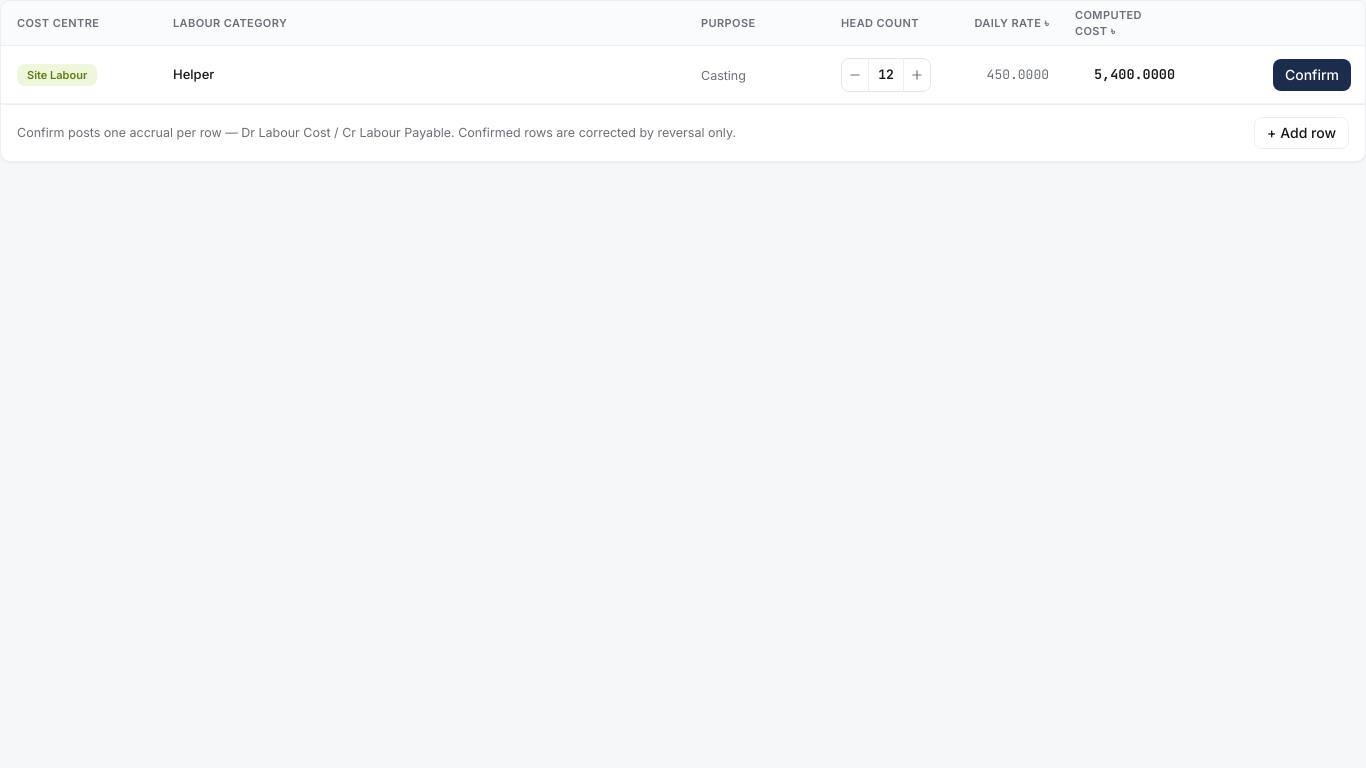
DailyLabourGrid — capture / confirm / reverse › surfaces ALREADY_CONFIRMED with the spec §8 copy on a second confirm
The image size is (1366, 768).
Expected: the element with test id "daily-labour-table" is shown, [1, 1, 1365, 104]
Click the button "Confirm": {"x": 1312, "y": 74} [1273, 58, 1351, 90]
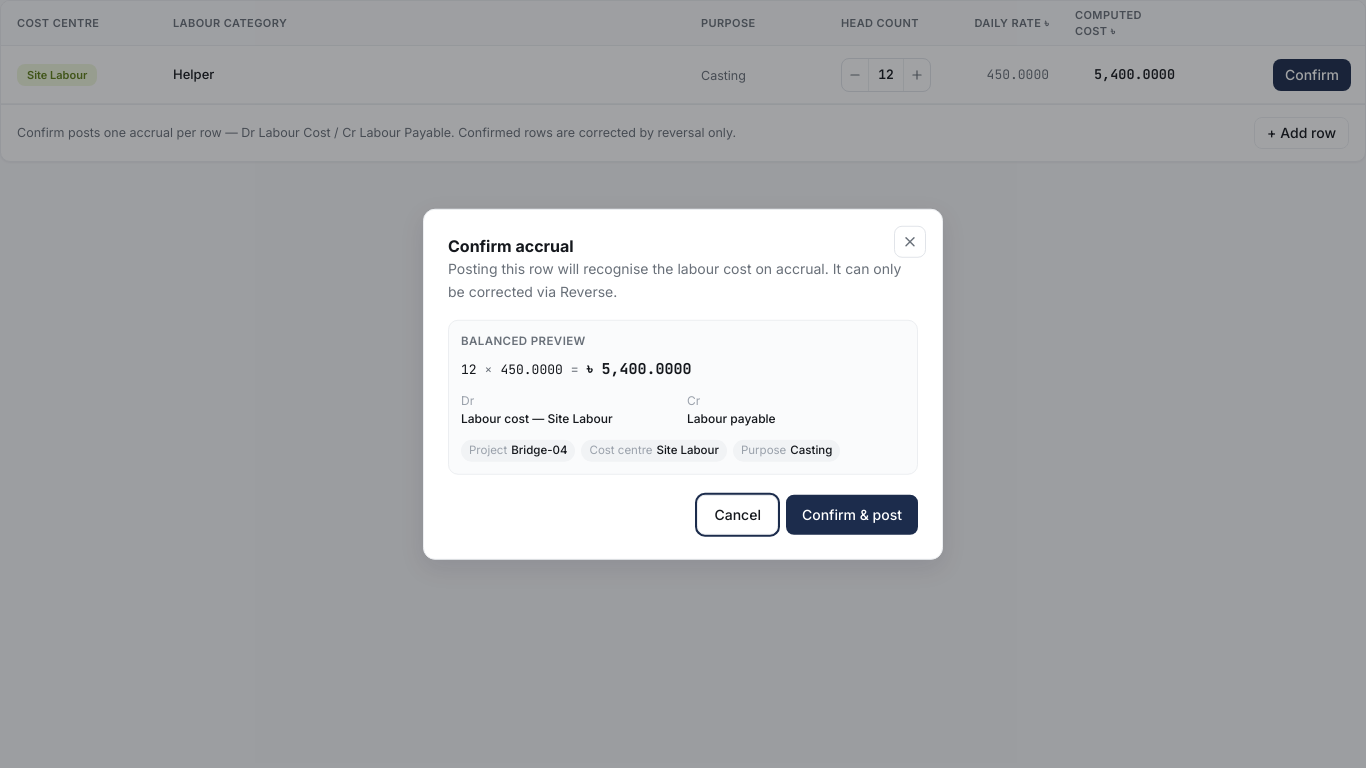
Click the button with test id "confirm-post": {"x": 852, "y": 514} [786, 494, 918, 534]
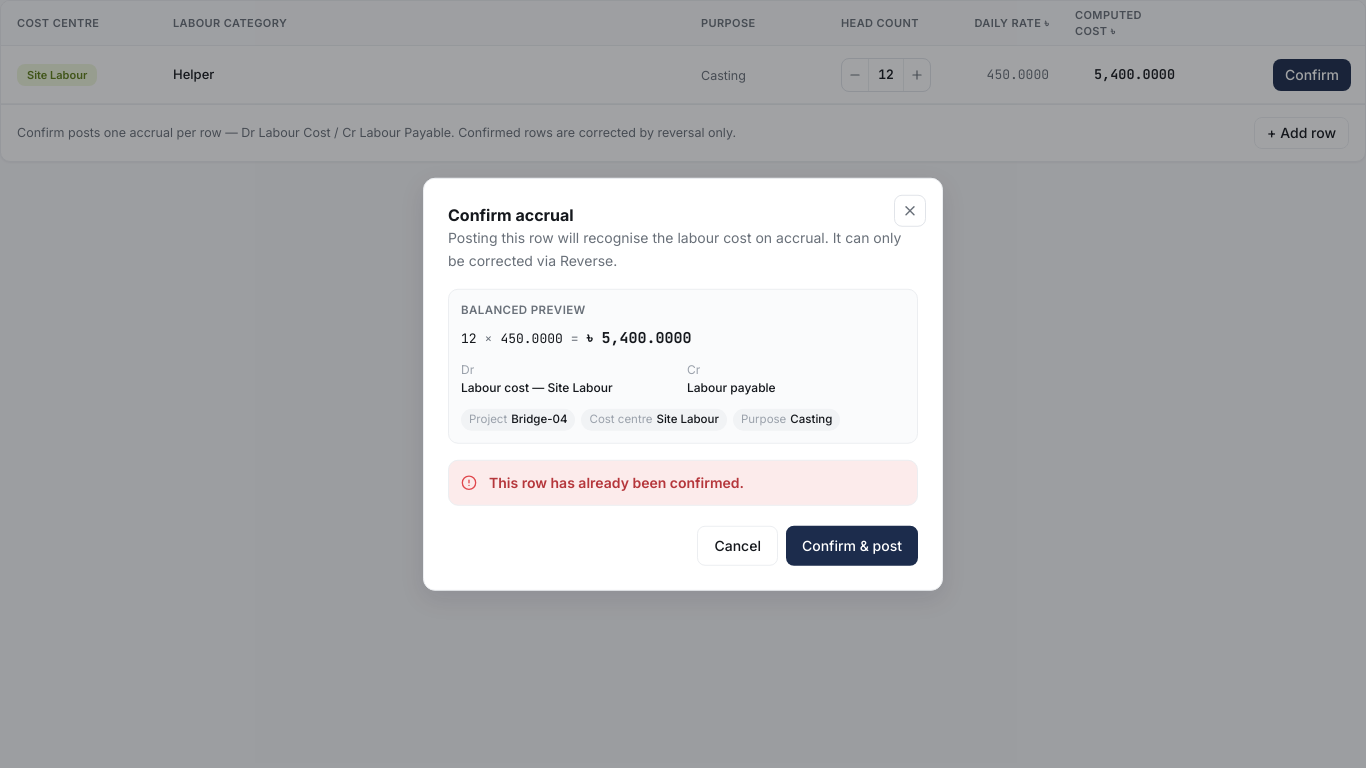
Now the message with test id "confirm-server-err" reads "This row has already been confirmed.", box [489, 473, 744, 490]
